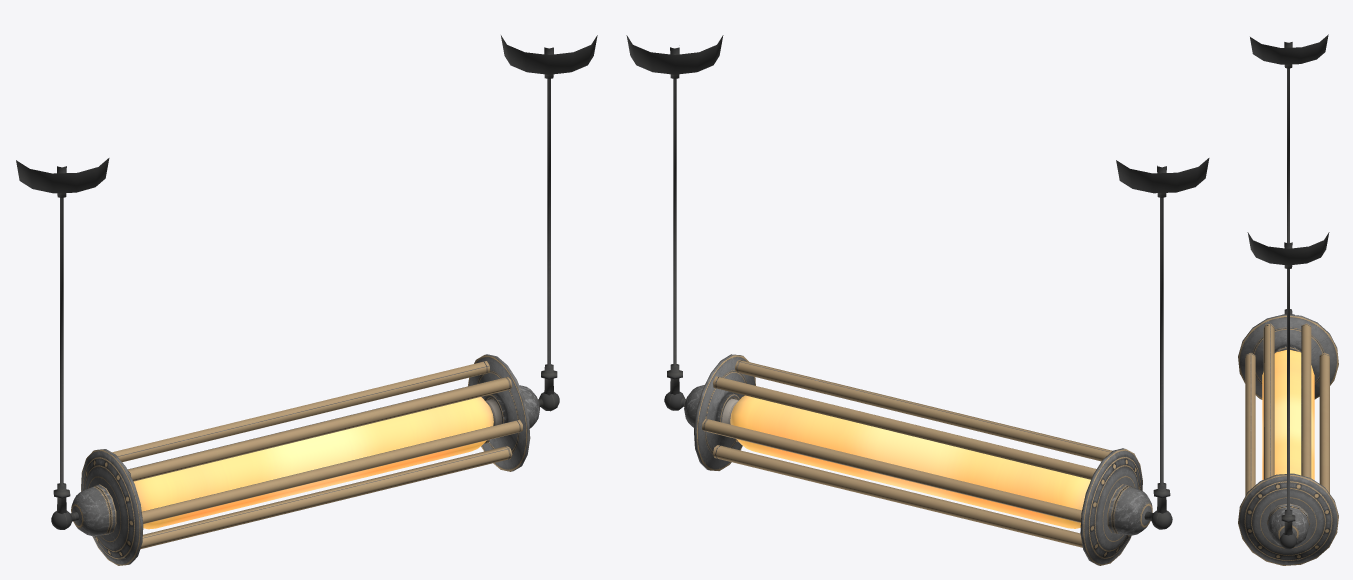
The picture shows the model from 3 angles, left to right: view 1: azimuth 30°, elevation 25°; view 2: azimuth 150°, elevation 25°; view 3: azimuth 270°, elevation 25°; orthographic projection. The views are drawn at different scales.
Parts seen in each view (by area): view 1: SM_Industrial_Roof_Lamp_02_MAT_Industrial_Roof_Lamp_02_0; view 2: SM_Industrial_Roof_Lamp_02_MAT_Industrial_Roof_Lamp_02_0; view 3: SM_Industrial_Roof_Lamp_02_MAT_Industrial_Roof_Lamp_02_0.
Part boxes in pixels (<box>): SM_Industrial_Roof_Lamp_02_MAT_Industrial_Roof_Lamp_02_0: <box>16,35,597,565</box>; SM_Industrial_Roof_Lamp_02_MAT_Industrial_Roof_Lamp_02_0: <box>626,35,1209,565</box>; SM_Industrial_Roof_Lamp_02_MAT_Industrial_Roof_Lamp_02_0: <box>1238,34,1338,565</box>.
Bounding box in the file's own units: 128 × 90.42 × 23.34.
1 material, 1 textured.
